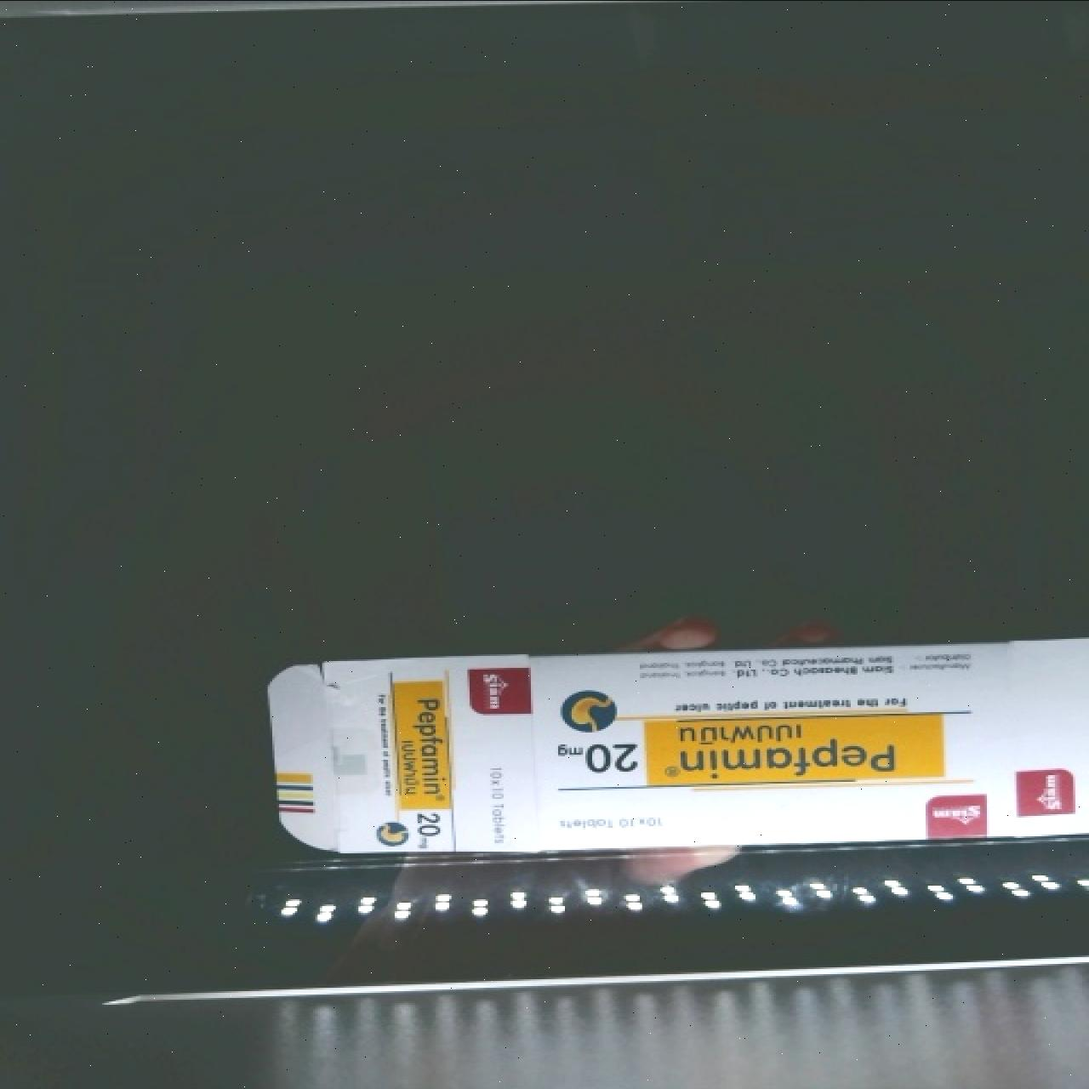medicine_label_obb: (658, 709, 914, 790)
